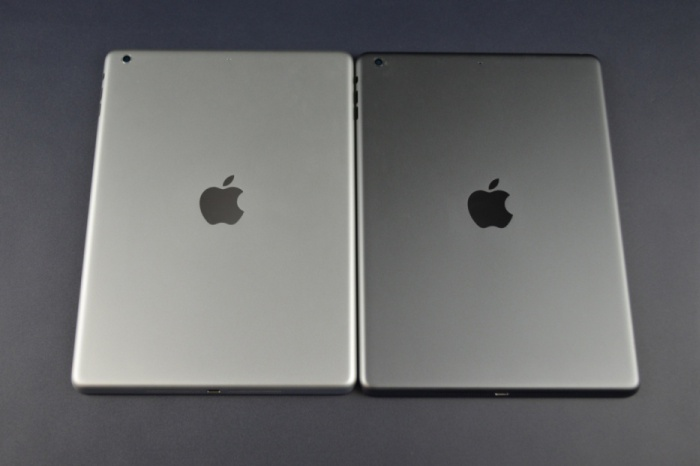apple: (455, 164, 545, 258), (180, 172, 271, 234)
